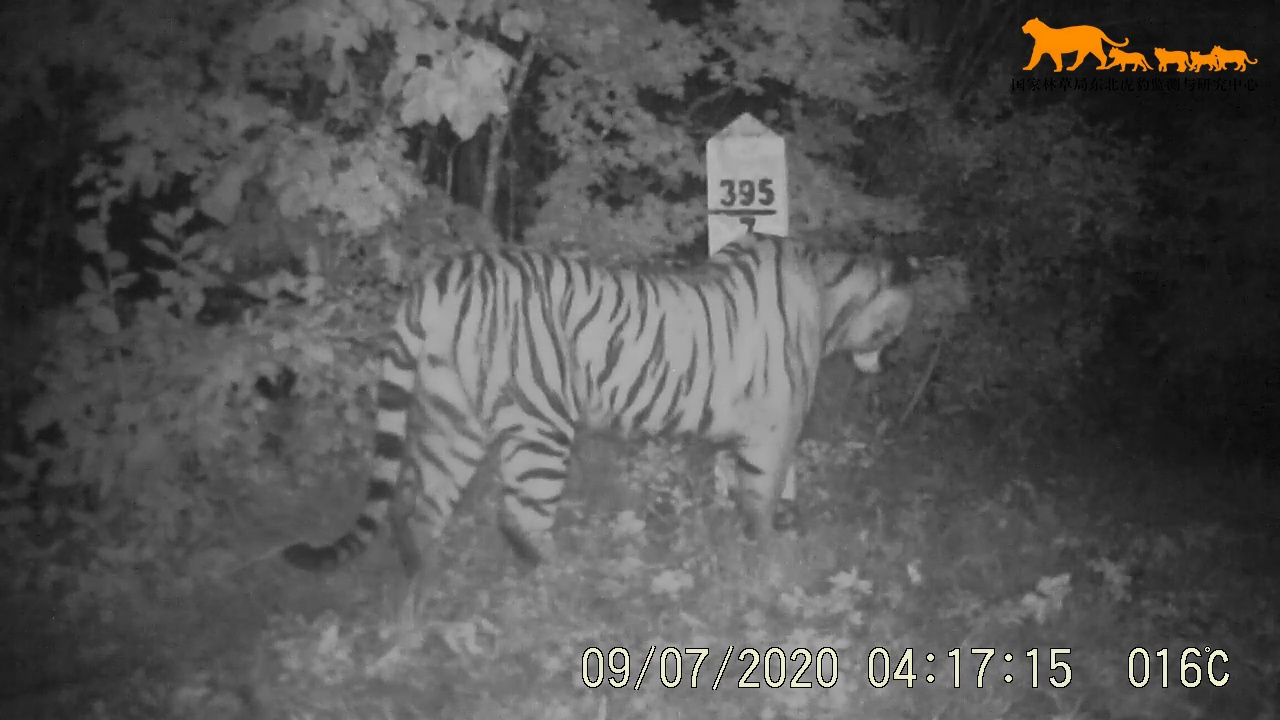Tiger: (258, 213, 970, 610)
